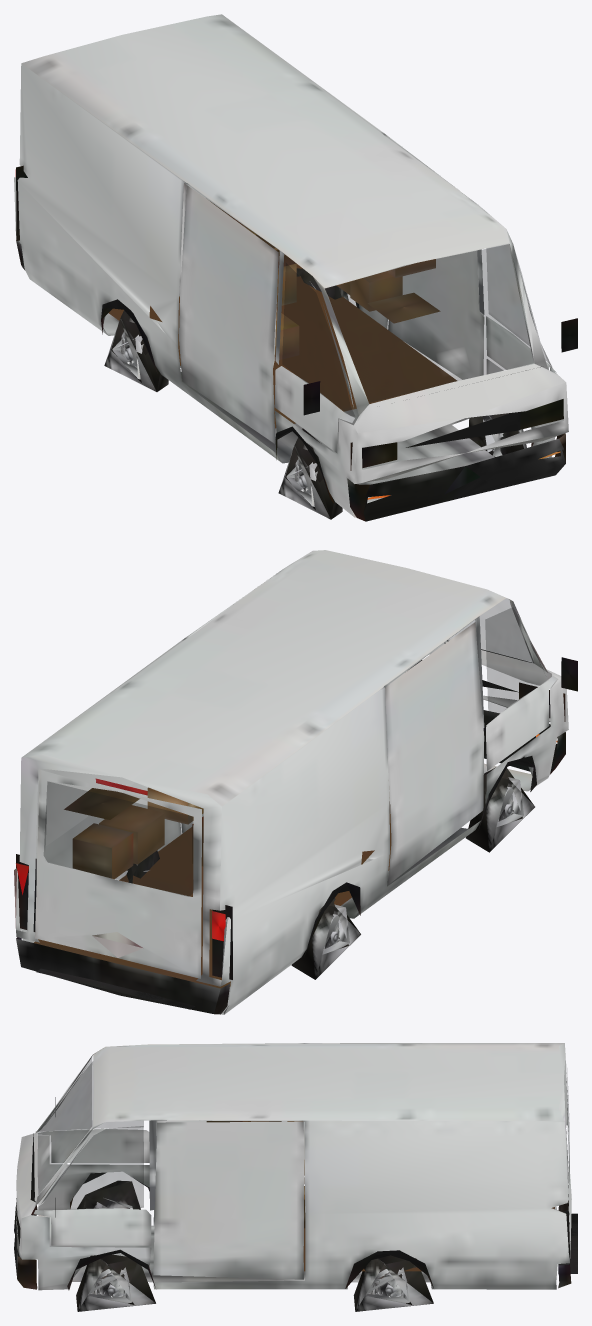
File: hakobi_lod2.glb
3 views of the same model, one above another, from view 1: azimuth 30°, elevation 25°; view 2: azimuth 150°, elevation 25°; view 3: azimuth 270°, elevation 25° (orthographic). The views are drawn at different scales.
Parts seen in each view (by area): view 1: Body, Wheel_FR, Wheel_RR, Wheel_FL; view 2: Body, Wheel_FR, Wheel_RR; view 3: Body, Wheel_FL, Wheel_RL, Wheel_FR.
Boxes of the visible parts, x1,y1,x2,y2 form: Body: (14, 14, 577, 521); Wheel_FR: (278, 428, 342, 519); Wheel_RR: (104, 310, 168, 391); Wheel_FL: (469, 413, 526, 457); Body: (14, 550, 577, 1014); Wheel_FR: (465, 767, 534, 852); Wheel_RR: (291, 898, 360, 979); Body: (14, 1043, 577, 1290); Wheel_FL: (76, 1254, 155, 1311); Wheel_RL: (353, 1255, 433, 1311); Wheel_FR: (77, 1180, 140, 1209).
Size of what is drawn, in the model's own units: 2.14 by 1.83 by 4.77.
Materials: 2 (2 with a texture image).
